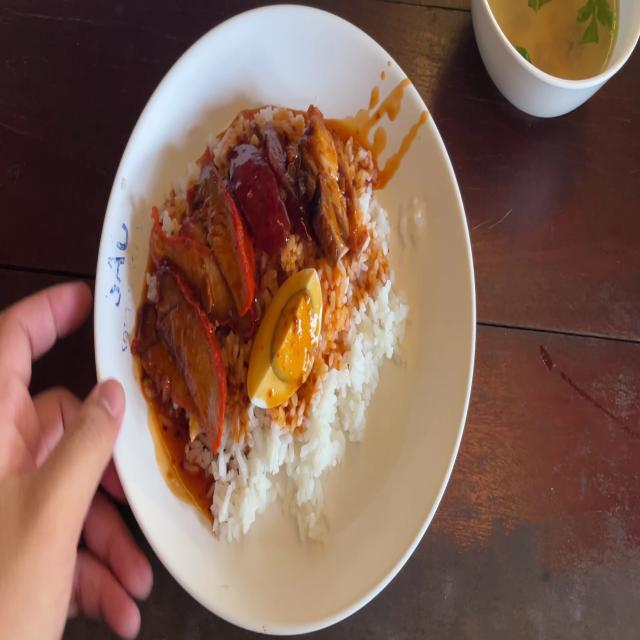01boiled_egg: (254, 275, 318, 407)
01chainese_sausage: (232, 119, 302, 248)
01crispy_pork: (304, 102, 344, 250)
01red_pork: (150, 173, 243, 436)
01red_pork_and_crispy_pork: (150, 104, 394, 521)
01rice: (326, 196, 396, 422), (216, 410, 336, 530)
